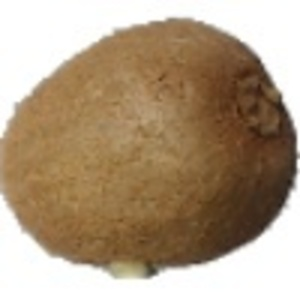kiwi: (1, 17, 300, 282)
